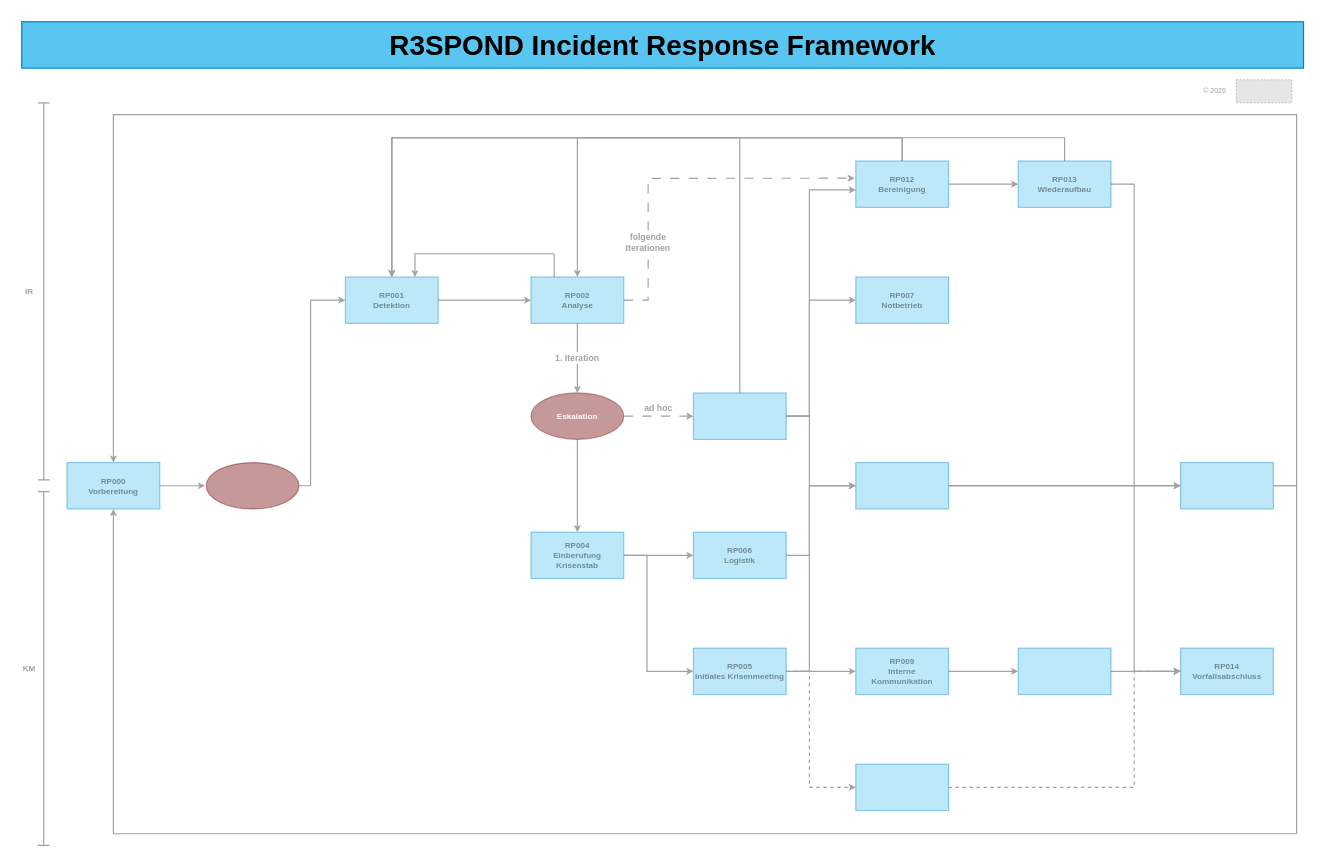
Image size: 1325x867. Some labels were removed from this diagram. Grey dashed boxes stand in for pictures. The centre of each missing label's shape, as x and y in pixels:
"Incident" goes at point (252, 485).
"RP003 Erstmaßnahmen/ Eindämmung" goes at point (739, 416).
"RP008 Regelmäßige Statusmeetings" goes at point (902, 485).
"RP010 Externe Kommunikation" goes at point (1064, 671).
"RP011 Lösegeld-verhandlungen" goes at point (902, 787).
"RP015 Nachbereitung" goes at point (1227, 485).
